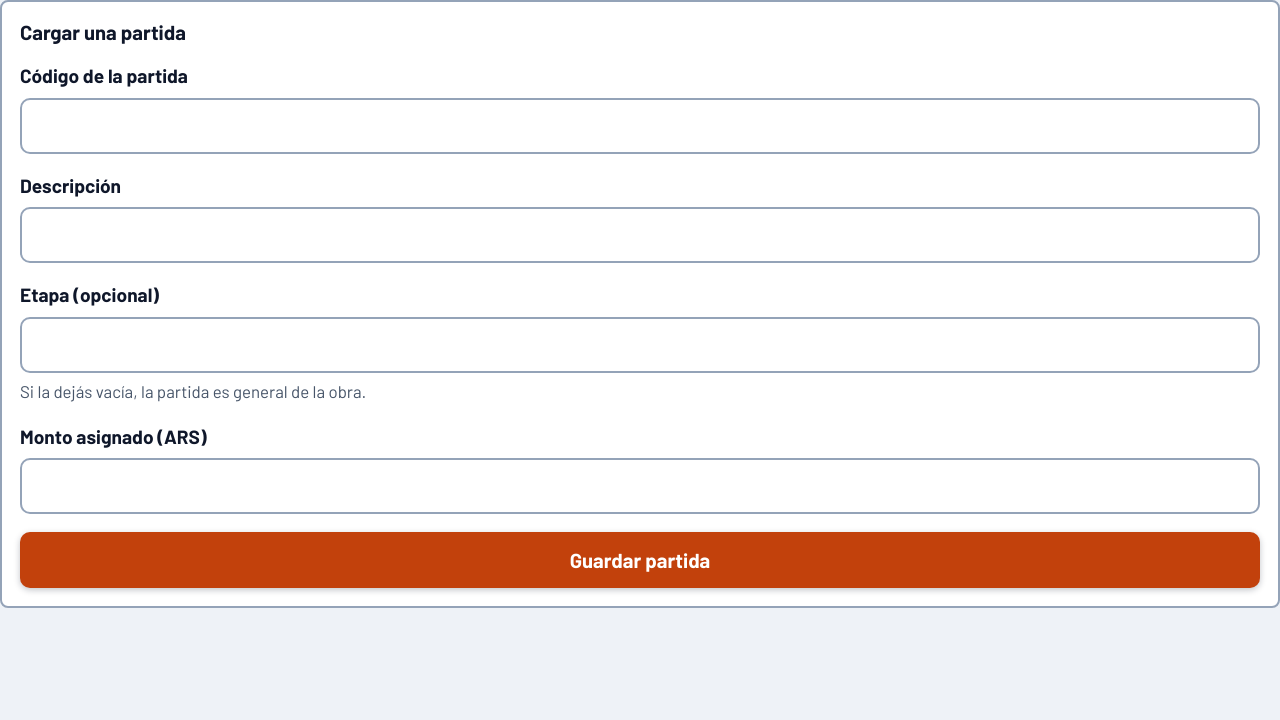
FormularioNuevaPartida › no deja escribir una coma en el monto
Type "1500,50" into the field labelled "Monto asignado (ARS)" at (640, 486), box [20,458,1260,514]
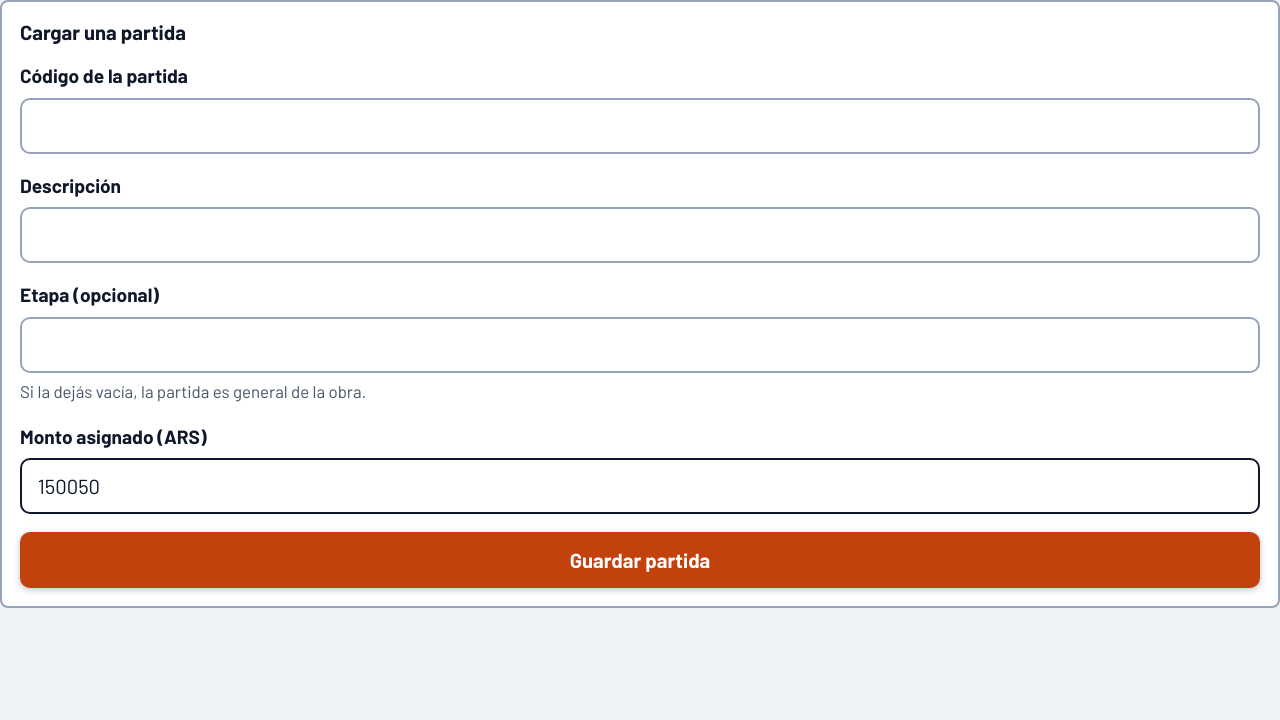
expect the field labelled "Monto asignado (ARS)" holds "150050": met, box [20,458,1260,514]
